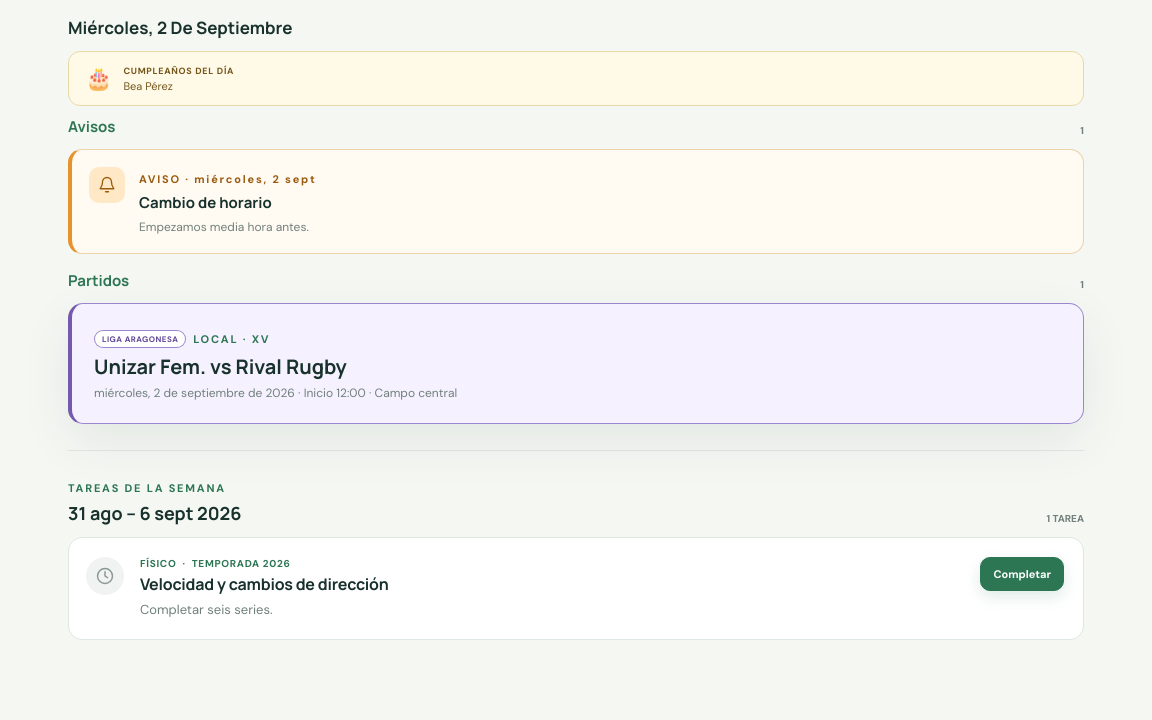
it: PlayerCalendarView › keeps a completed match and its score visible without availability actions
(page scrolled)
Click the button with aria-label "Ver detalle de Unizar Fem. vs Rival Rugby".
click(140, 339)  # box [94, 330, 1061, 401]
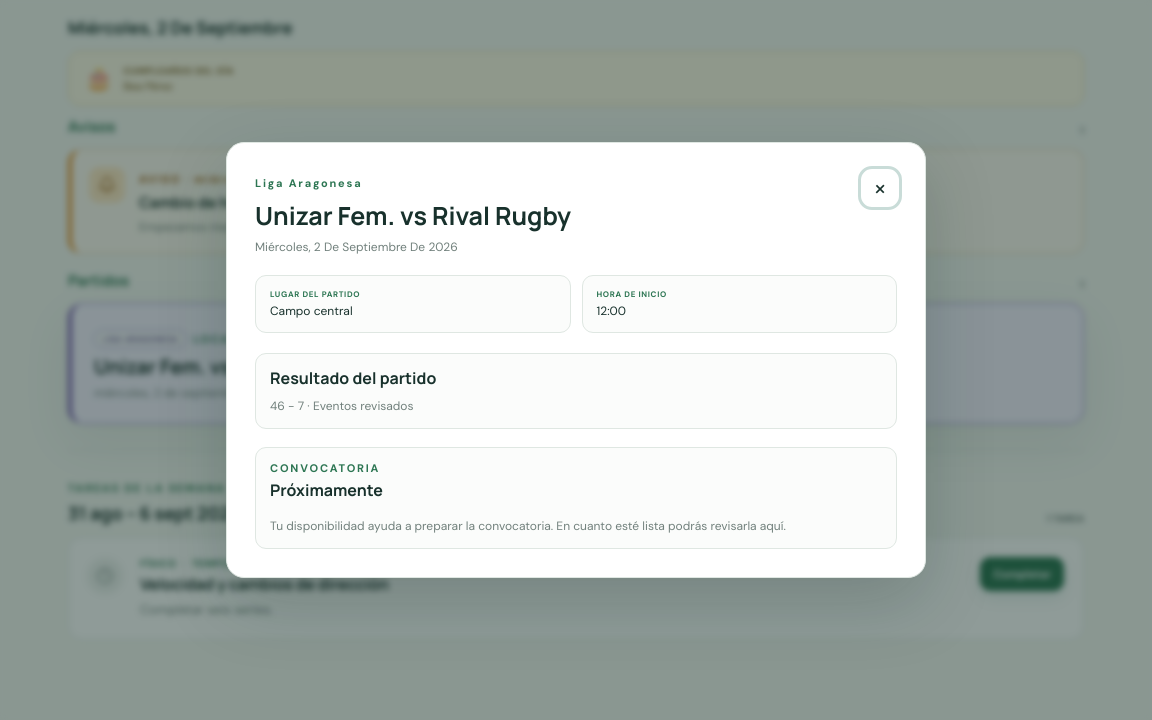
Expected: the text "46 - 7 · Eventos revisados" is shown, [270, 398, 414, 414]
